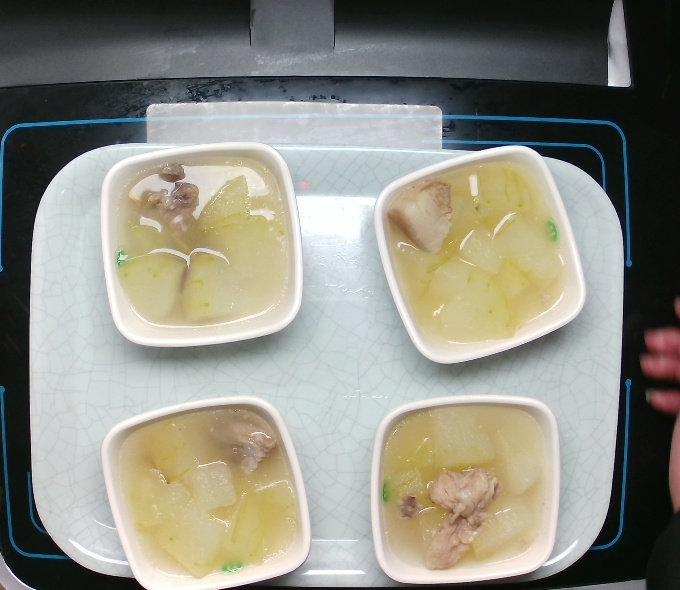wcq-DongGuaZhuRouTang: (100, 406, 308, 590), (384, 158, 574, 357), (105, 151, 300, 339), (382, 398, 563, 590)
